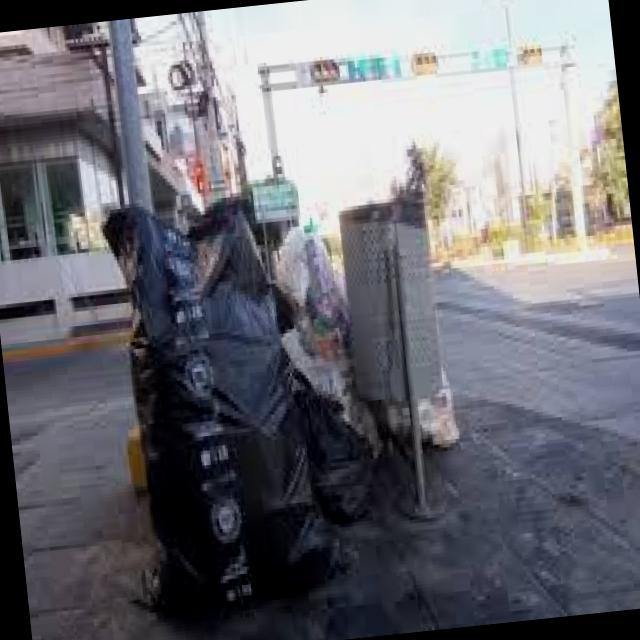garbage: (91, 117, 494, 640)
